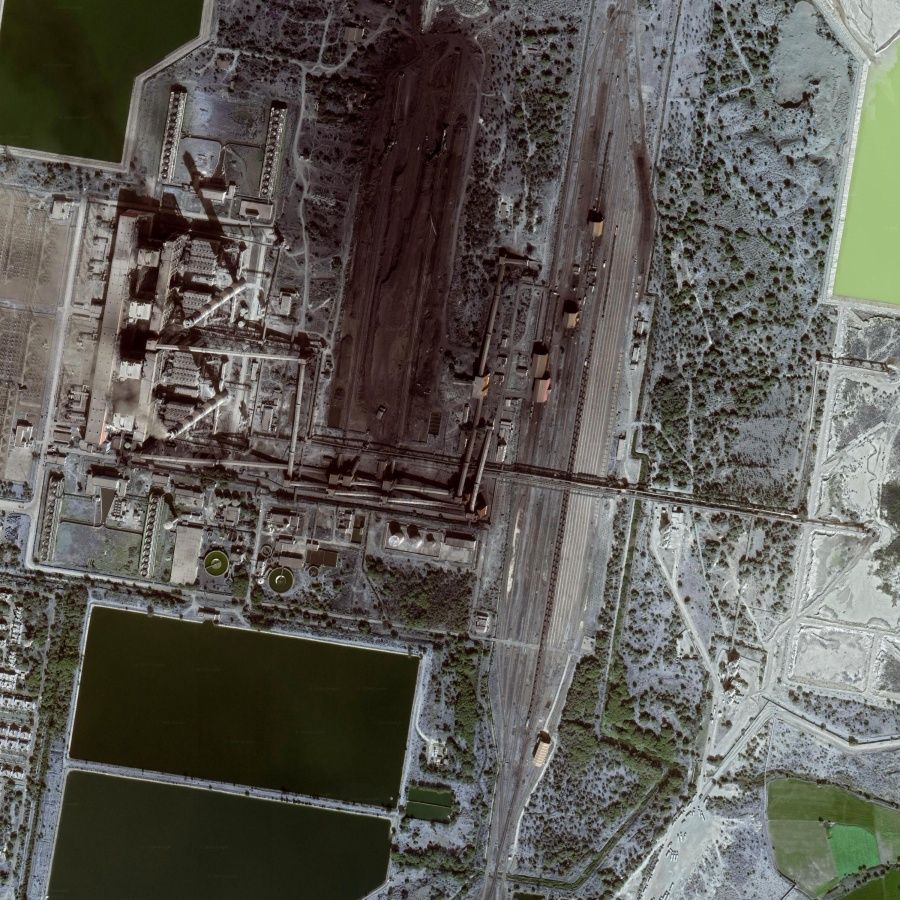PowerPlant: (95, 4, 538, 512)
